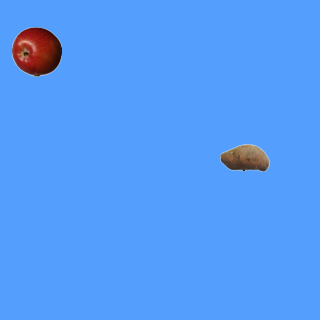Apple Braeburn: (11, 26, 61, 76)
Potato Sweet: (219, 132, 269, 182)
